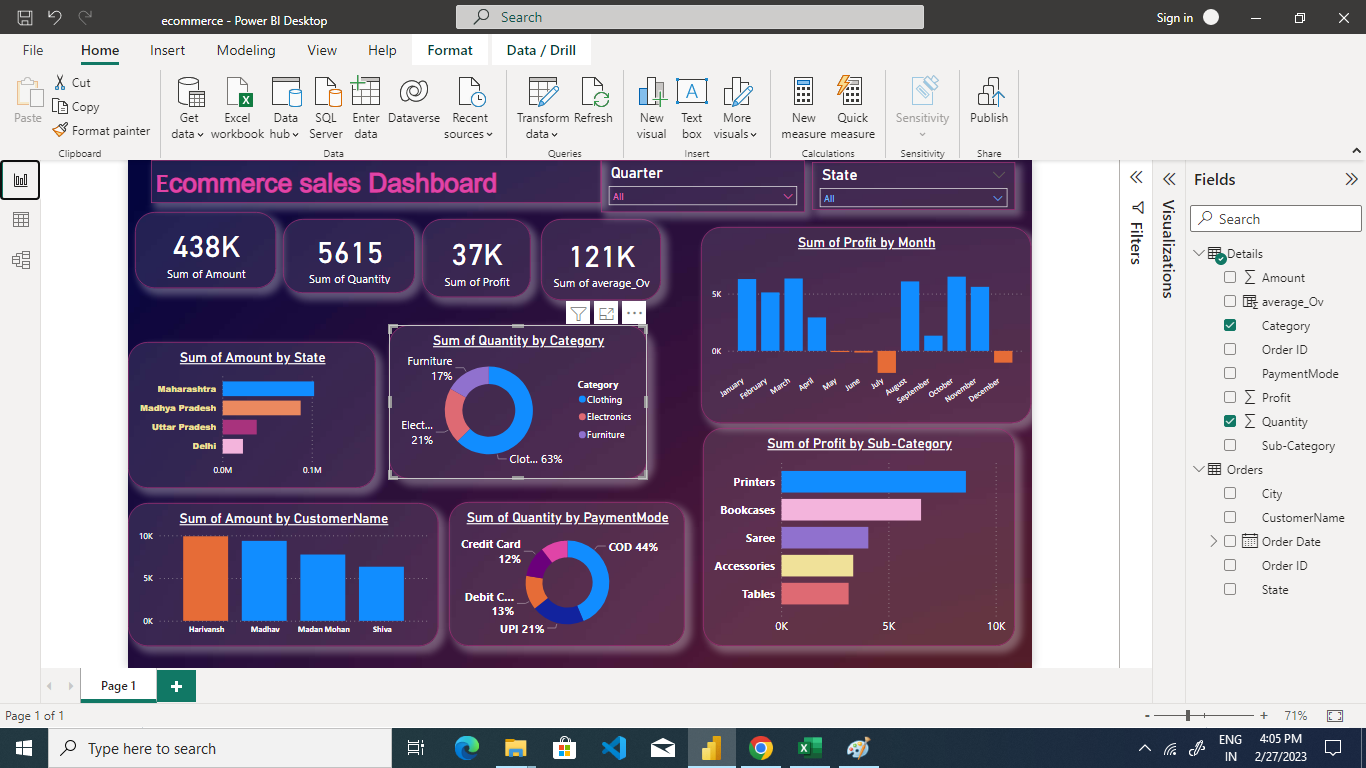

This screenshot's page, from the dashboard's own definition file:
{"tool":"powerbi","page":{"name":"Page 1","canvas":[1280,720],"ordinal":0},"visuals":[{"type":"textbox","box":[32.6,0,637.8,60.9],"z":0},{"type":"columnChart","fields":{"Y":["Details.Profit"],"Category":["Orders.Order Date.Variation.Date Hierarchy.Month"]},"box":[812.1,95,467.7,277.8],"z":1000},{"type":"barChart","fields":{"Category":["Details.Sub-Category"],"Y":["Details.Profit"]},"box":[815,379.8,442.2,309],"z":1001},{"type":"donutChart","fields":{"Category":["Details.Category"],"Y":["Details.Quantity"]},"box":[369.9,233.9,365.7,218.3],"z":1002},{"type":"donutChart","fields":{"Y":["Details.Quantity"],"Category":["Details.PaymentMode"]},"box":[455,484.7,334.5,204.1],"z":1003},{"type":"card","fields":{"Values":["Details.Amount"]},"box":[9.9,73.7,199.8,107.7],"z":1004},{"type":"card","fields":{"Values":["Details.Quantity"]},"box":[219.7,83.6,187.1,104.9],"z":1005},{"type":"card","fields":{"Values":["Details.Profit"]},"box":[416.7,83.6,154.5,110.6],"z":1006},{"type":"card","fields":{"Values":["Details.average order value"]},"box":[585.4,83.6,170.1,114.8],"z":1007},{"type":"barChart","fields":{"Category":["Orders.State"],"Y":["Details.Amount"]},"box":[0,258,351.5,206.9],"z":1008},{"type":"columnChart","fields":{"Category":["Orders.CustomerName"],"Y":["Details.Amount"]},"box":[0,485.5,440.1,203.3],"z":1009},{"type":"slicer","fields":{"Values":["Orders.Order Date.Variation.Date Hierarchy.Quarter"]},"box":[670.4,0,289.1,73.7],"z":1010},{"type":"slicer","fields":{"Values":["Orders.State"]},"box":[969.4,2.8,287.7,68],"z":1011}]}

Visuals, with their boxes on the page's 1280x720 design canvas (x1, y1, x2, y2). These are canvas units, not pixel positions in the 1366x768 screenshot, which may show the page scaled, cropped or inside an application window:
textbox: rect(33, 0, 670, 61)
columnChart - Details.Profit x Orders.Order Date.Variation.Date Hierarchy.Month: rect(812, 95, 1280, 373)
barChart - Details.Sub-Category x Details.Profit: rect(815, 380, 1257, 689)
donutChart - Details.Category x Details.Quantity: rect(370, 234, 736, 452)
donutChart - Details.Quantity x Details.PaymentMode: rect(455, 485, 790, 689)
card - Details.Amount: rect(10, 74, 210, 181)
card - Details.Quantity: rect(220, 84, 407, 188)
card - Details.Profit: rect(417, 84, 571, 194)
card - Details.average order value: rect(585, 84, 756, 198)
barChart - Orders.State x Details.Amount: rect(0, 258, 352, 465)
columnChart - Orders.CustomerName x Details.Amount: rect(0, 486, 440, 689)
slicer - Orders.Order Date.Variation.Date Hierarchy.Quarter: rect(670, 0, 960, 74)
slicer - Orders.State: rect(969, 3, 1257, 71)
